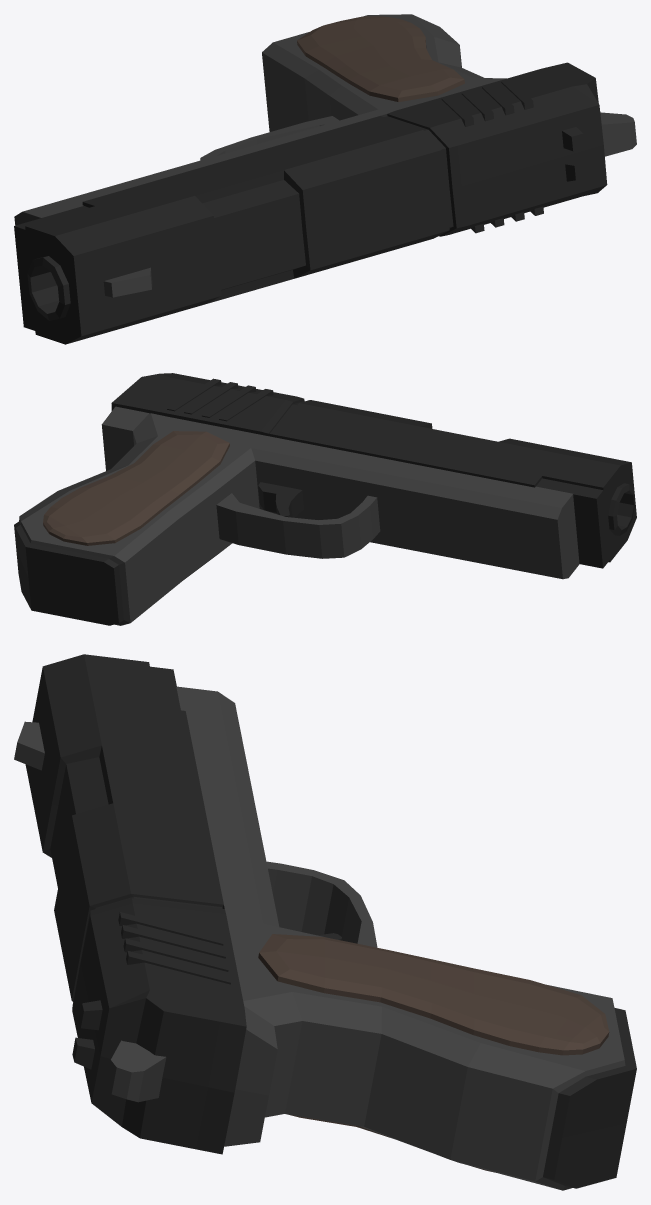
Rendered from pistol.glb.
3 renders of one model, top to bottom at view 1: azimuth 30°, elevation 25°; view 2: azimuth 150°, elevation 25°; view 3: azimuth 270°, elevation 25°, orthographic. The views are drawn at different scales.
Parts seen in each view (by area): view 1: Pistol; view 2: Pistol; view 3: Pistol.
Boxes of the visible parts, x1,y1,x2,y2 form: Pistol: (14, 14, 636, 344); Pistol: (14, 373, 636, 625); Pistol: (14, 654, 636, 1190).
Bounding box in the file's own units: 0.2583 × 0.0676 × 0.1826.
